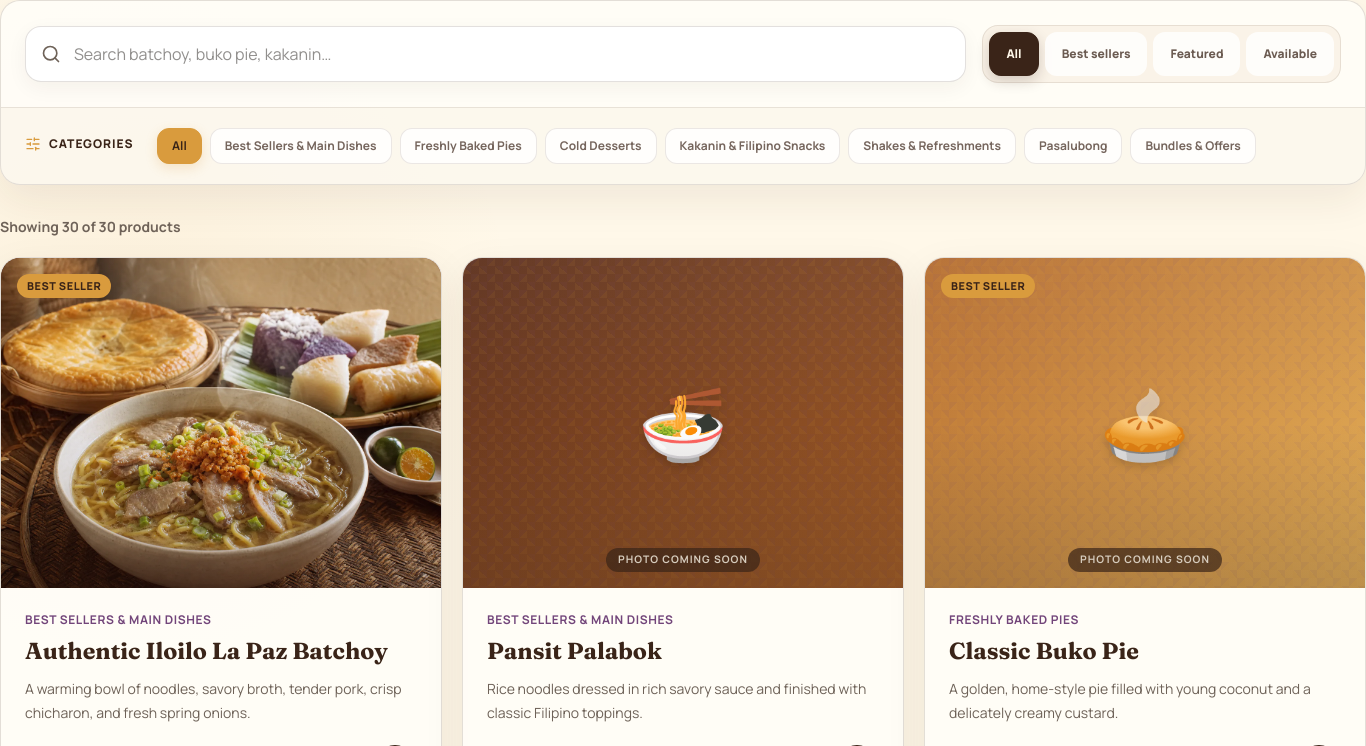
Test case: MenuExplorer › filters products by search and can clear the filters
This screenshot has width=1366, height=746.
Type "Batchoy" into the field named "Search products" at (496, 54), box x1=25 y1=26 x2=966 y2=82
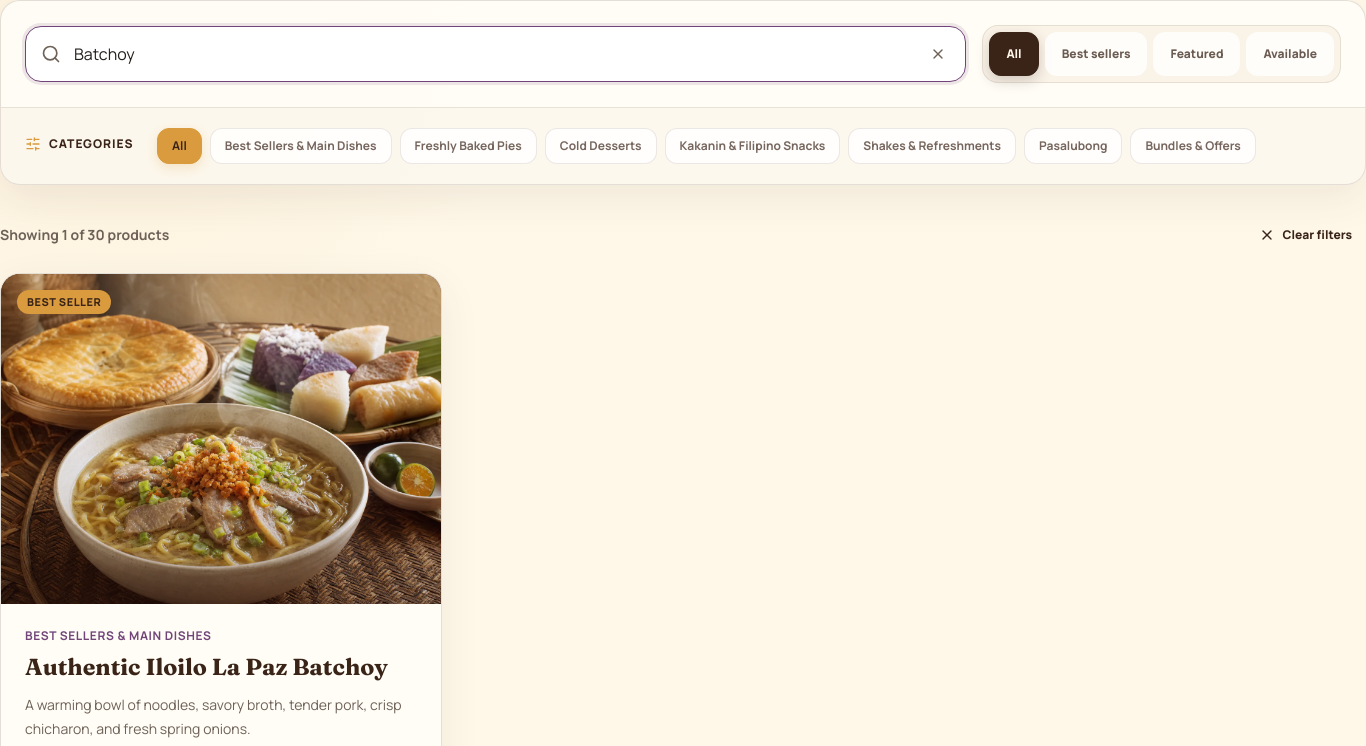
Check: the link "Authentic Iloilo La Paz Batchoy" is shown, box x1=25 y1=652 x2=388 y2=681
Check: the link "Classic Buko Pie" is gone
Click the button "Clear filters" at (1305, 235), box x1=1244 y1=217 x2=1365 y2=253
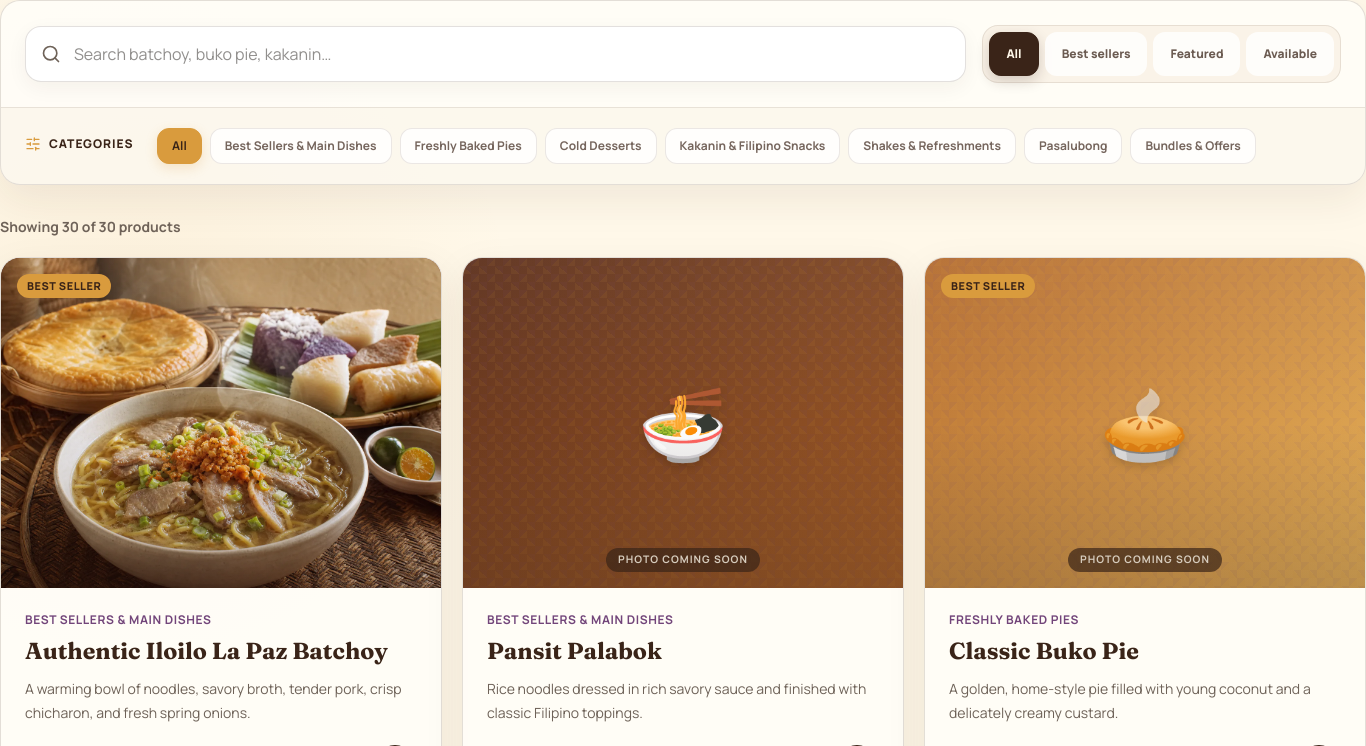
Check: the link "Classic Buko Pie" is shown, box x1=949 y1=636 x2=1139 y2=665
